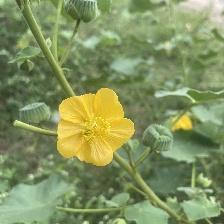indian mallow: (59, 87, 136, 169)
